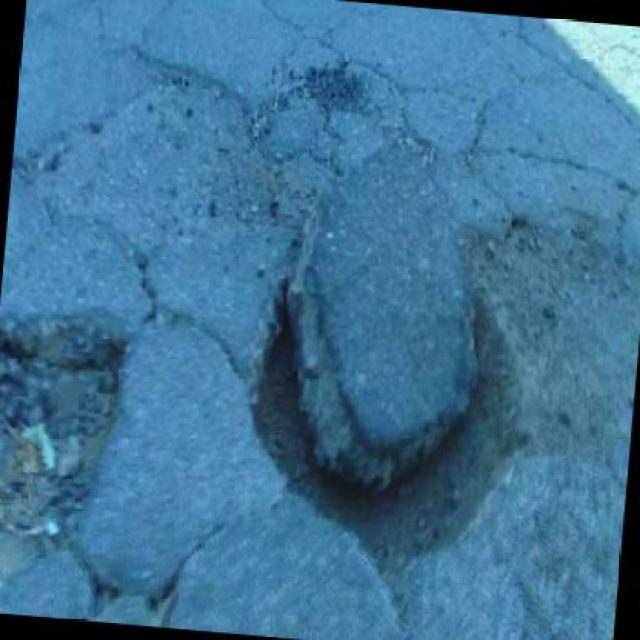pothole: (232, 231, 546, 594), (2, 306, 138, 571)
